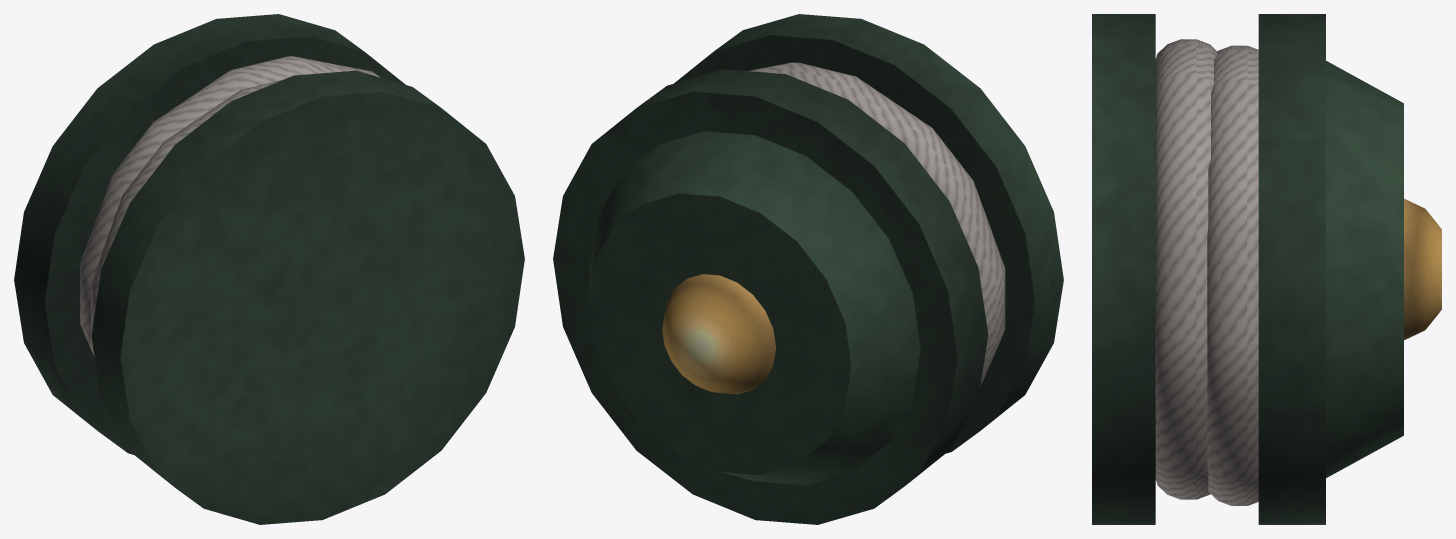
The model's file is kassya.fbx.
3 views of the same model, side by side, from view 1: azimuth 30°, elevation 25°; view 2: azimuth 150°, elevation 25°; view 3: azimuth 270°, elevation 25° (orthographic). The views are drawn at different scales.
Parts seen in each view (by area): view 1: kaasya_model; view 2: kaasya_model; view 3: kaasya_model.
Boxes of the visible parts, box(x1,y1,x2,y2) form: kaasya_model: box(14, 14, 524, 524); kaasya_model: box(553, 14, 1063, 524); kaasya_model: box(1092, 14, 1441, 524).
Size of the model in its own units: 14.83 by 14.83 by 10.08.
1 material, 1 textured.
